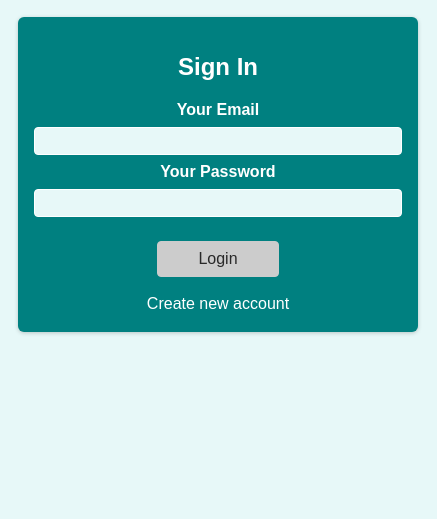
it: Login page › Sign Up form › renders email error if email format is invalid
Click the button "Create new account": click(218, 304) 123,293 -> 313,316
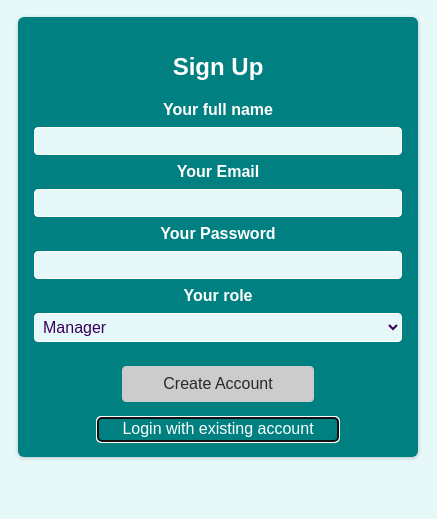
In the field named "email-input": (218, 203) 34,189 -> 402,217, type "asfdasfd"
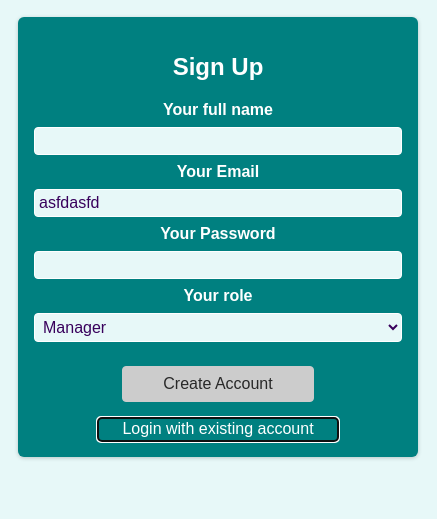
Leave the field named "email-input", box 34,189 -> 402,217
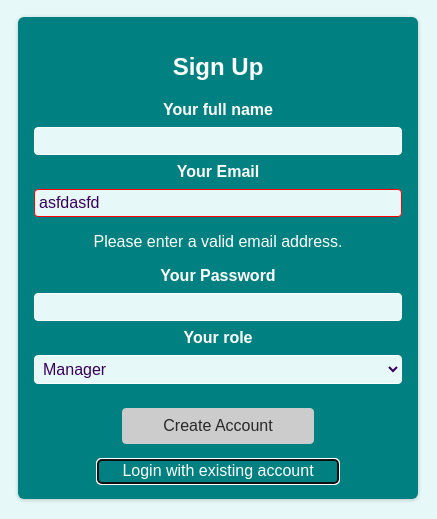
Now the text "Please enter a valid email address." is shown, box 94,233 -> 342,250
